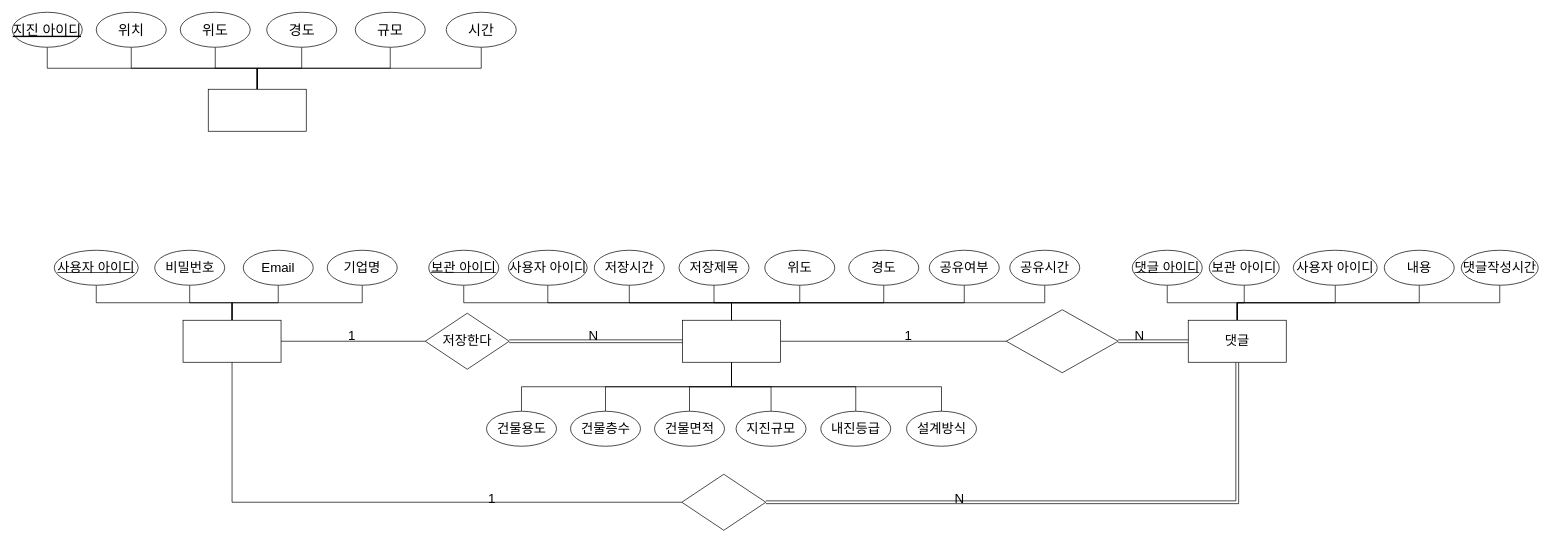
The diagram is 1551 pixels wide and 543 high, and some of its shapes have lost their labels. The box of each missing label's shape, as (x1, y1, x2, y2) in pixels:
댓글을 포함한다: (1006, 309, 1118, 373)
댓글을쓴다: (681, 474, 766, 530)
보관함: (682, 320, 780, 362)
사용자: (182, 320, 281, 362)
지진 데이터: (208, 89, 306, 131)
